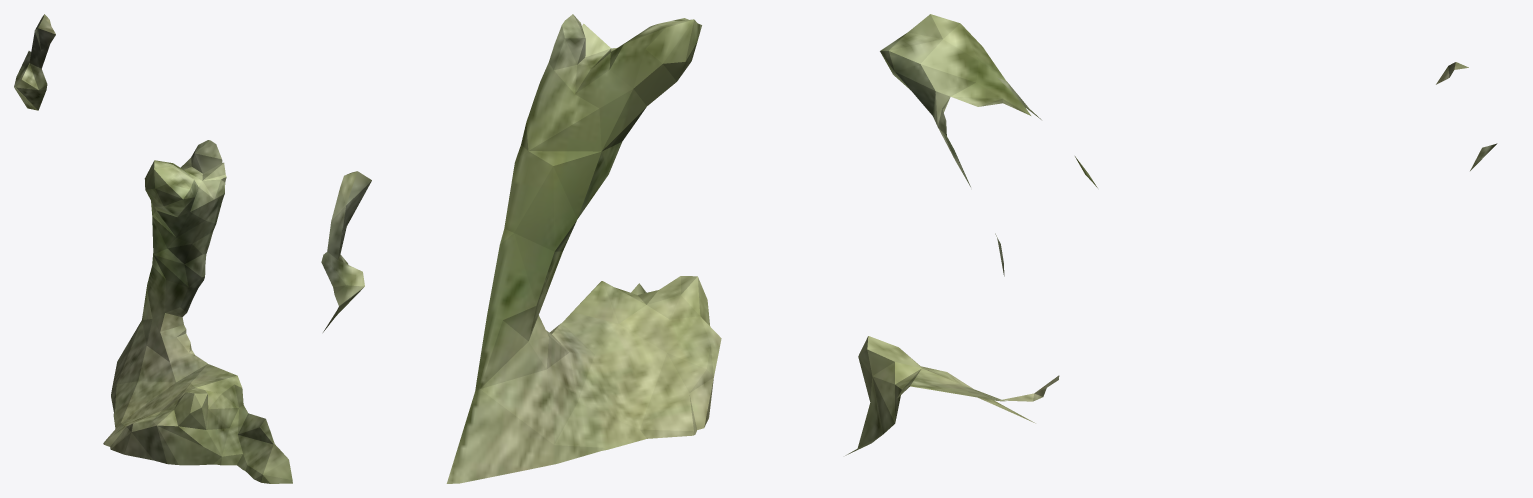
3 views of the same model, side by side, from view 1: azimuth 30°, elevation 25°; view 2: azimuth 150°, elevation 25°; view 3: azimuth 270°, elevation 25° (orthographic). The views are drawn at different scales.
Bounding box in the file's own units: 1.95 × 5.28 × 8.8.
1 material, 1 textured.
